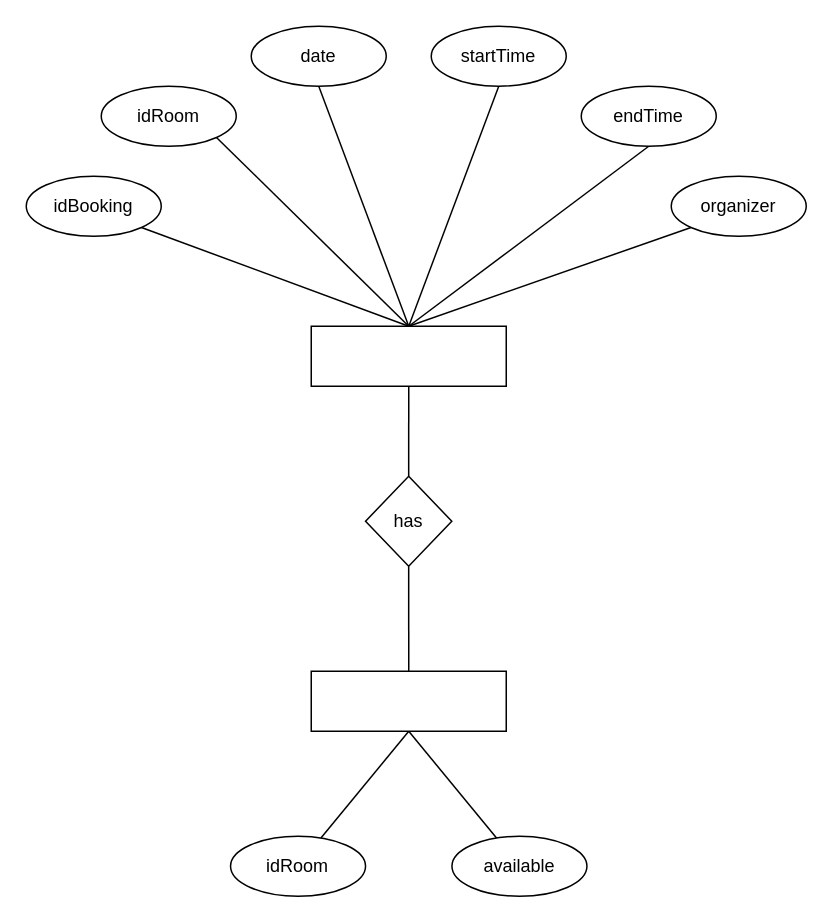
This 833x923 diagram has some shape labels left out. The centre of each missing label's shape, as x and y in pixels:
"Booking" belongs at point 408,355.
"Room" belongs at point 408,700.
